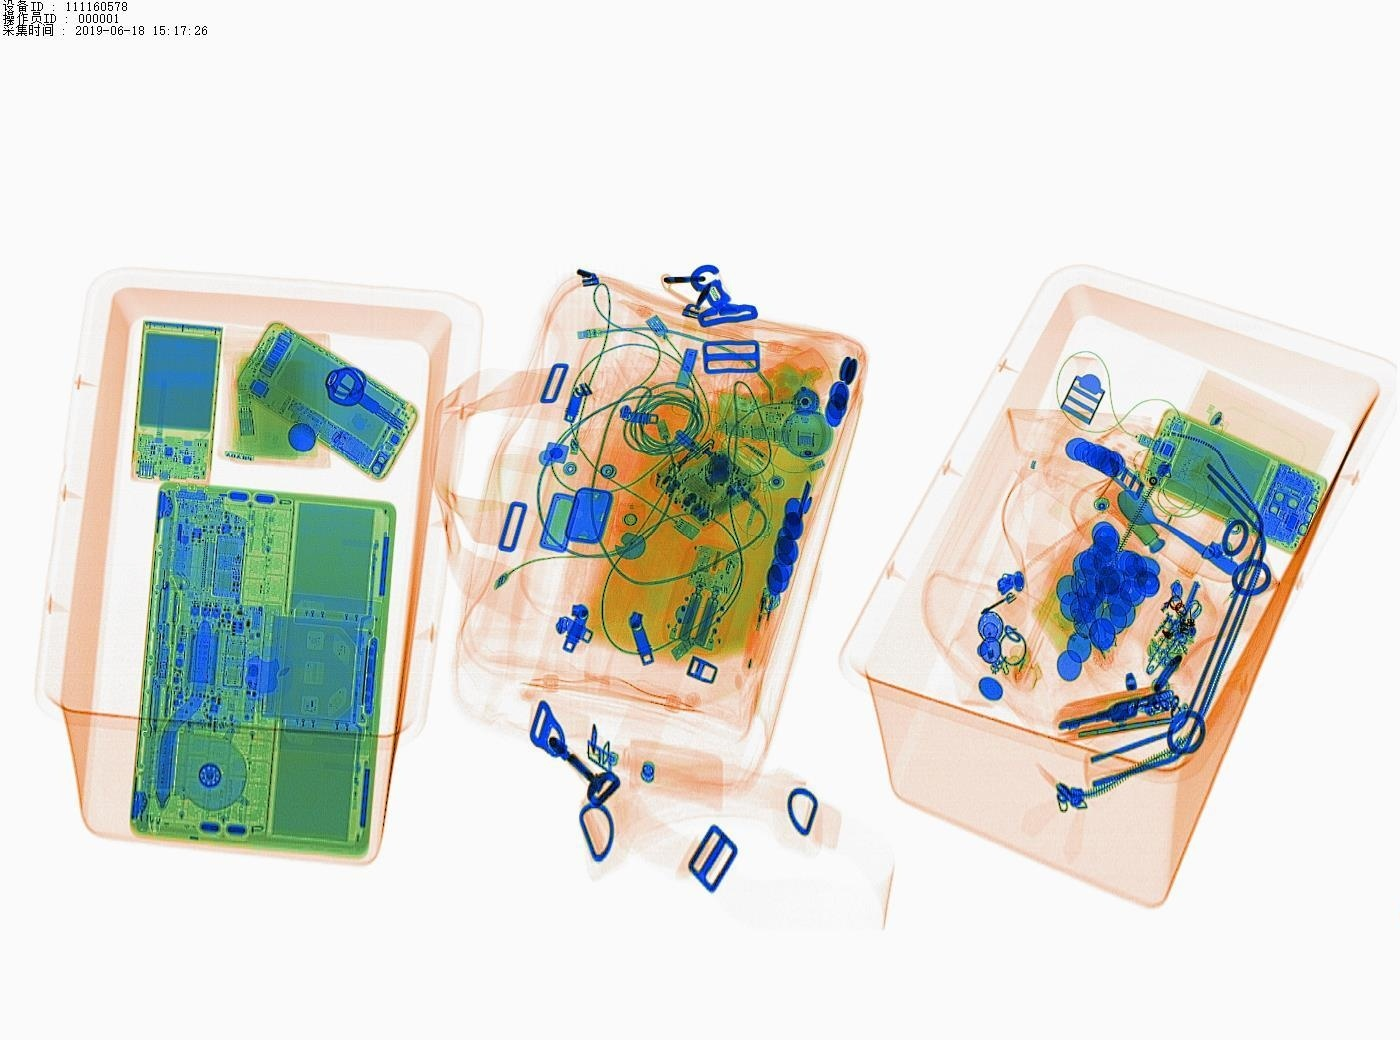NonmetallicFire: (721, 575, 790, 730)
